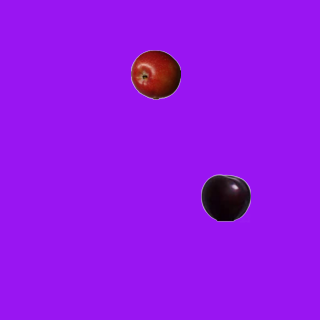Apple Braeburn: (130, 49, 180, 99)
Cherry Wax Black: (200, 172, 250, 222)
